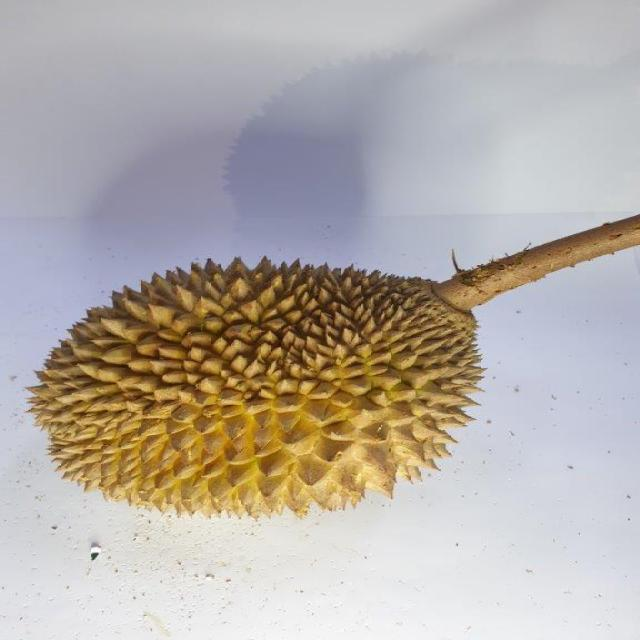mature: (29, 261, 486, 529)
